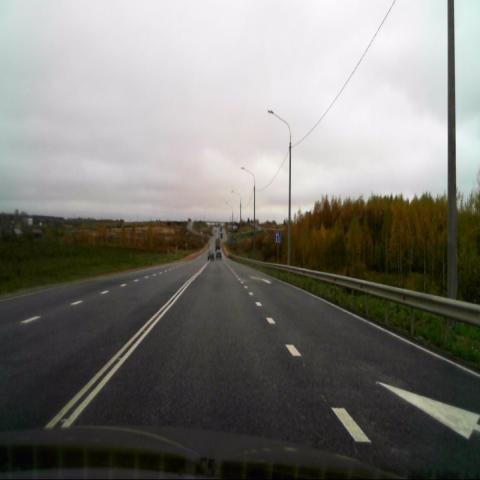5_15_5: (274, 232, 281, 244)
